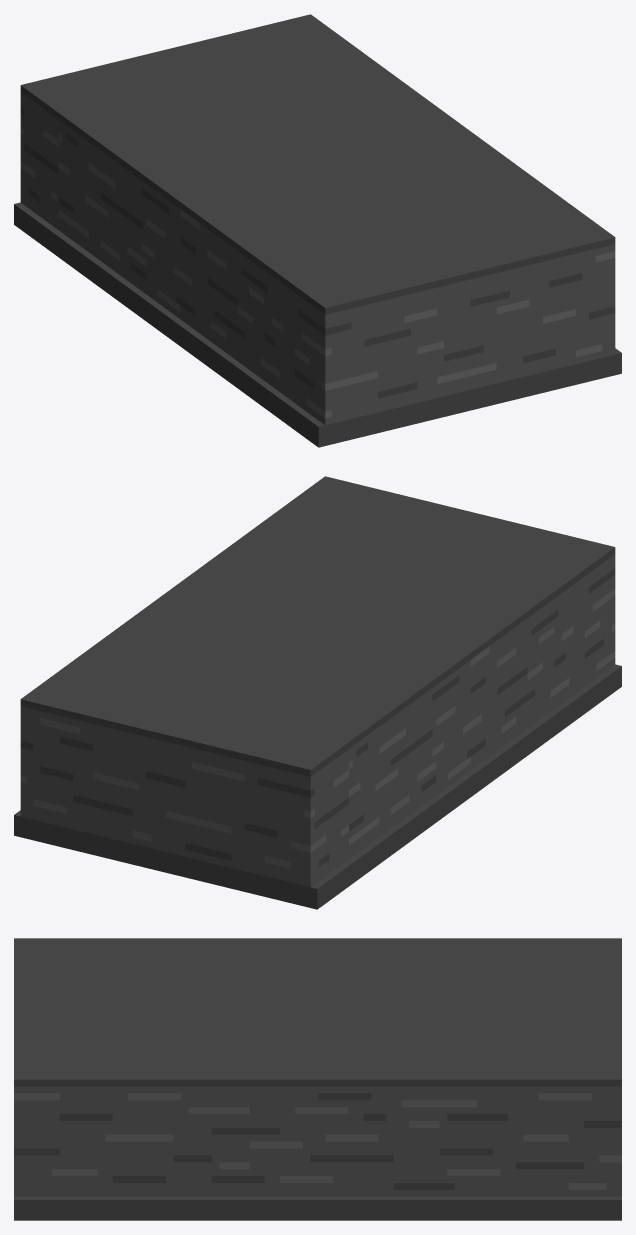
Rendered from WallLarge.obj.
3 views of the same model, one above another, from view 1: azimuth 30°, elevation 25°; view 2: azimuth 150°, elevation 25°; view 3: azimuth 270°, elevation 25° (orthographic).
Size of the model in its own units: 4.6 by 2 by 8.
Materials: 1 (1 with a texture image).
